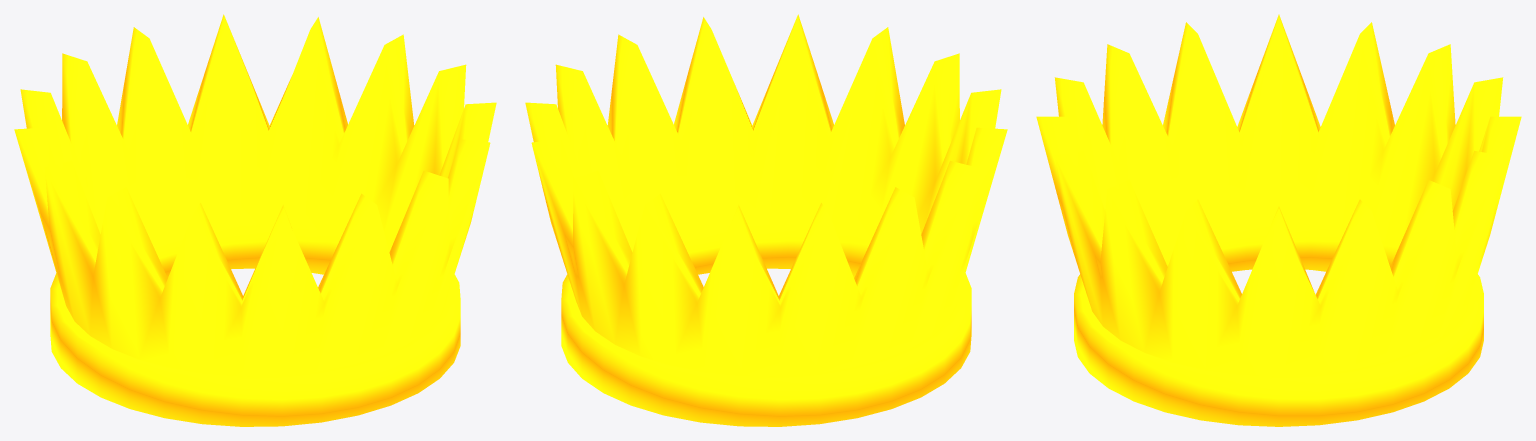
File: crown.glb
The picture shows the model from 3 angles, left to right: view 1: azimuth 30°, elevation 25°; view 2: azimuth 150°, elevation 25°; view 3: azimuth 270°, elevation 25°; orthographic projection.
Visible parts, largest first — view 1: Circle; view 2: Circle; view 3: Circle.
Boxes of the visible parts, x1=… form: Circle: x1=14, y1=14, x2=496, y2=426; Circle: x1=525, y1=14, x2=1007, y2=426; Circle: x1=1036, y1=14, x2=1521, y2=426.
Bounding box in the file's own units: 2.55 × 1.3 × 2.55.
